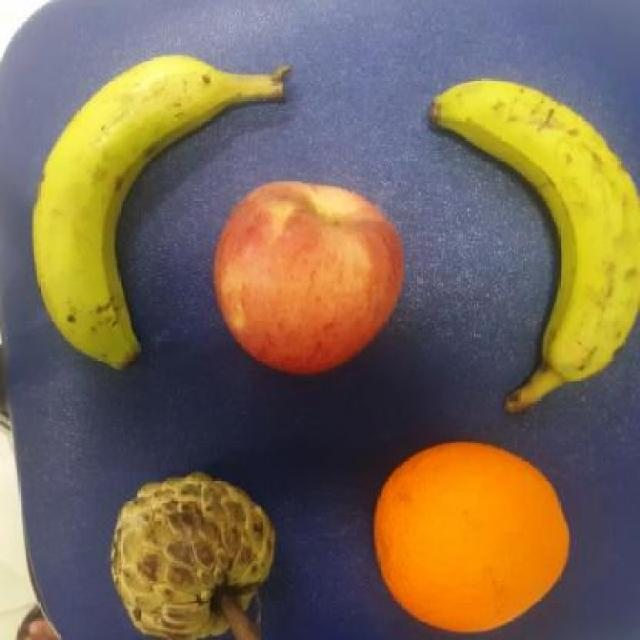apple: (213, 179, 404, 372)
banana: (32, 53, 292, 369), (428, 78, 640, 418)
oren: (373, 441, 572, 637)
sugar apple: (110, 472, 275, 640)
